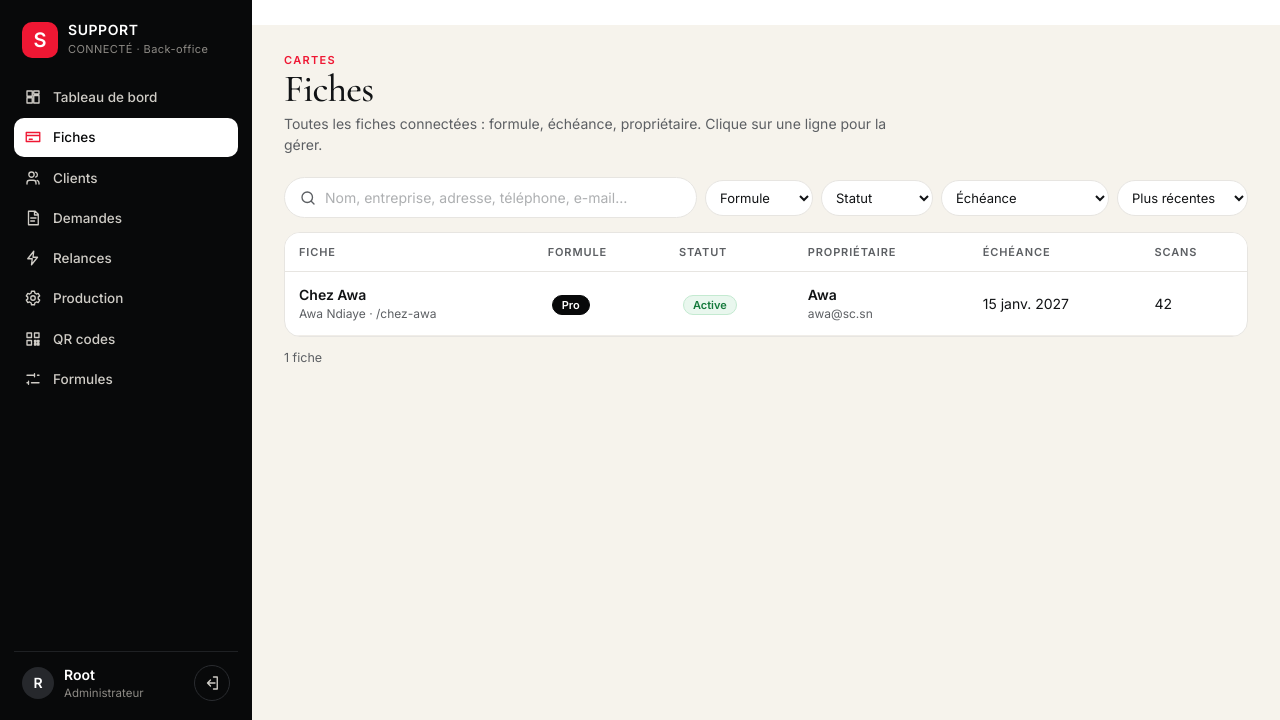
it: pages du back-office › cliquer une ligne de la liste ouvre le détail de la fiche
Click the row that starts with "Chez Awa": (766, 304) [285, 272, 1247, 336]
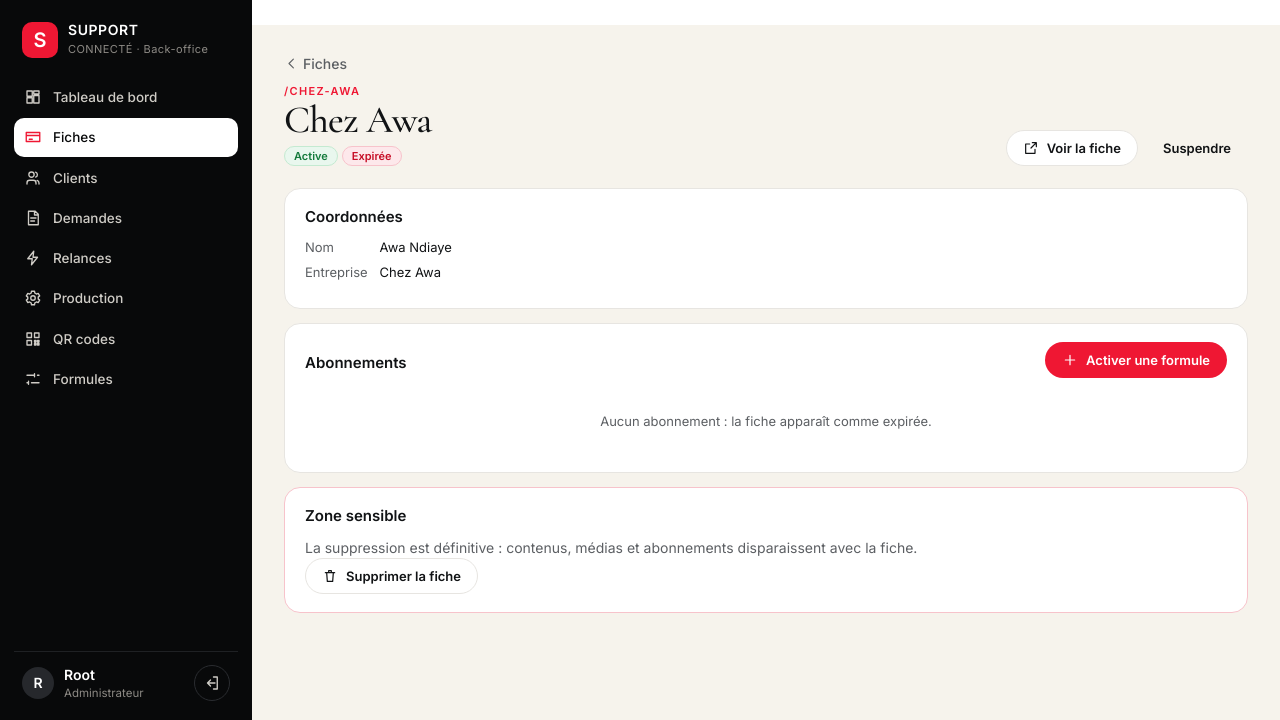
Check: the text with test id "where" reads "/admin/fiches/12", box [0, 2, 126, 22]
Check: the text "Abonnements" is shown, box [305, 353, 407, 372]
